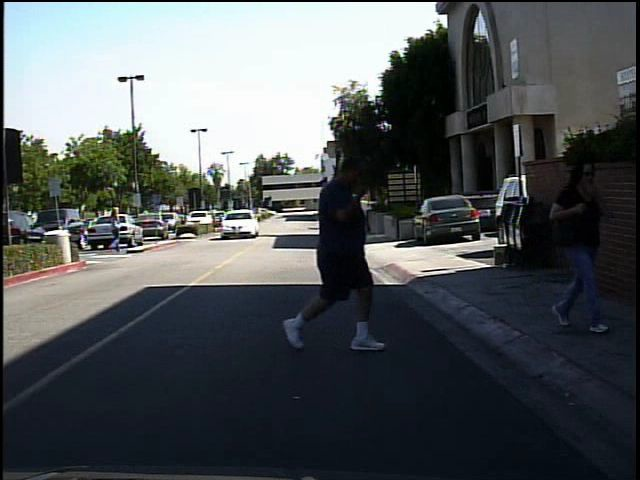person: (287, 146, 393, 357), (538, 144, 617, 336), (104, 203, 127, 256)
